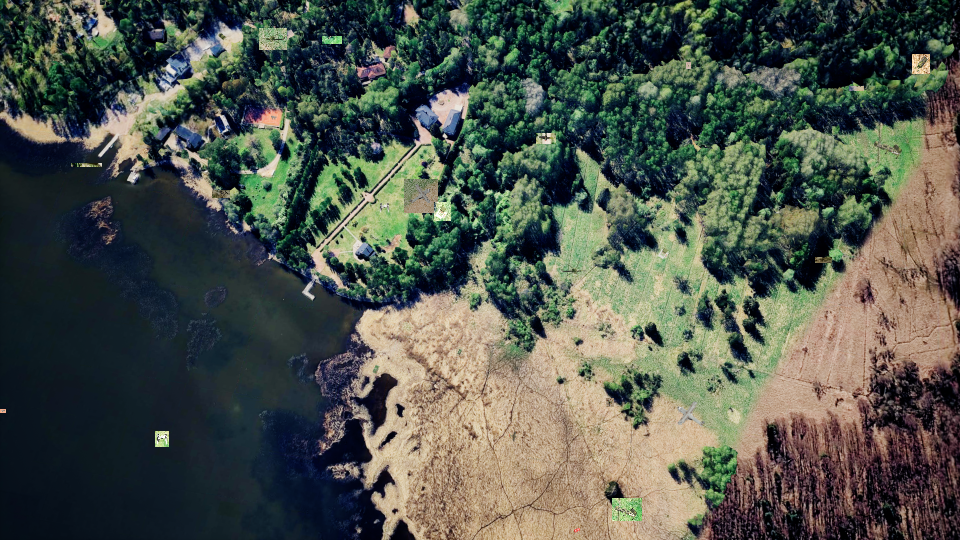condor: (404, 179, 438, 213)
hangar: (71, 163, 102, 167)
helicopter: (259, 28, 287, 50)
jammer: (456, 347, 463, 356)
jet_plane: (322, 36, 342, 44)
large_launcher: (612, 498, 642, 521)
large_tower: (212, 190, 230, 198)
medium_launcher: (815, 257, 832, 263)
medium_plane: (536, 133, 556, 144)
mine_roller: (912, 54, 930, 74)
small_launcher: (686, 62, 691, 69)
small_plane: (606, 398, 614, 407)
small_tower: (434, 202, 451, 221)
spacecraft: (155, 431, 169, 447)
ta-ta: (0, 409, 6, 413)
tank: (849, 86, 864, 91)
